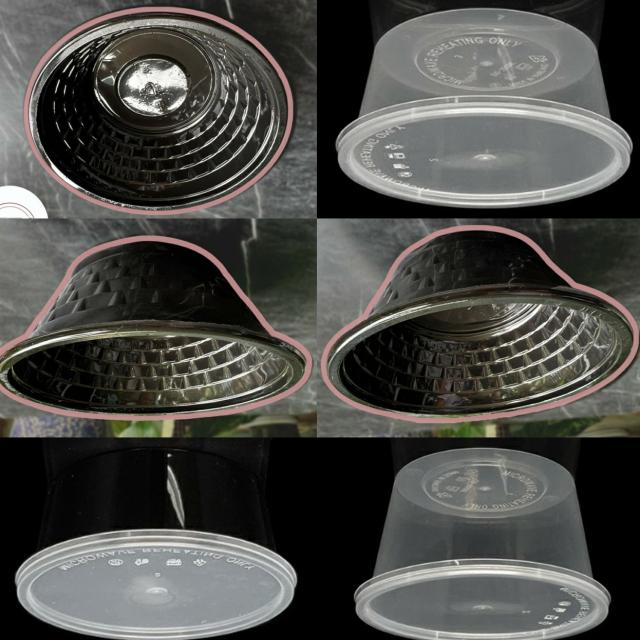plastik: (336, 8, 632, 207), (326, 230, 635, 418), (24, 8, 293, 215), (15, 449, 297, 640), (0, 243, 306, 416), (354, 447, 610, 640)
